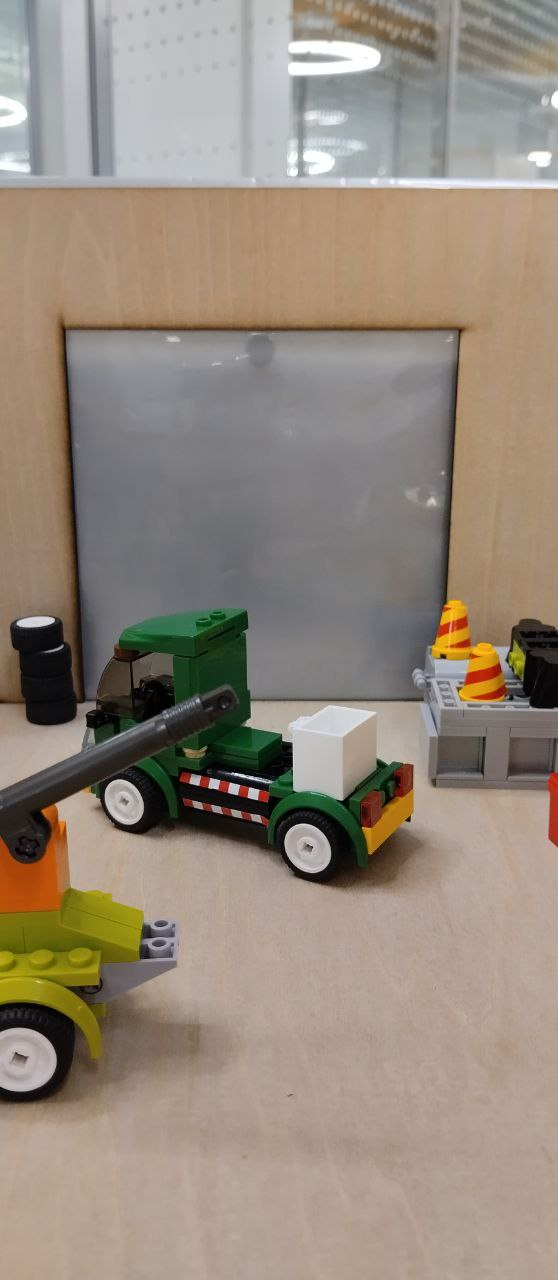Cone: (430, 597, 476, 663), (462, 642, 509, 703)
Crane: (0, 689, 230, 1104)
Object Black: (508, 618, 558, 708)
Object Red: (547, 772, 557, 857)
Object white: (289, 700, 378, 805)
Truck: (93, 613, 425, 878)
